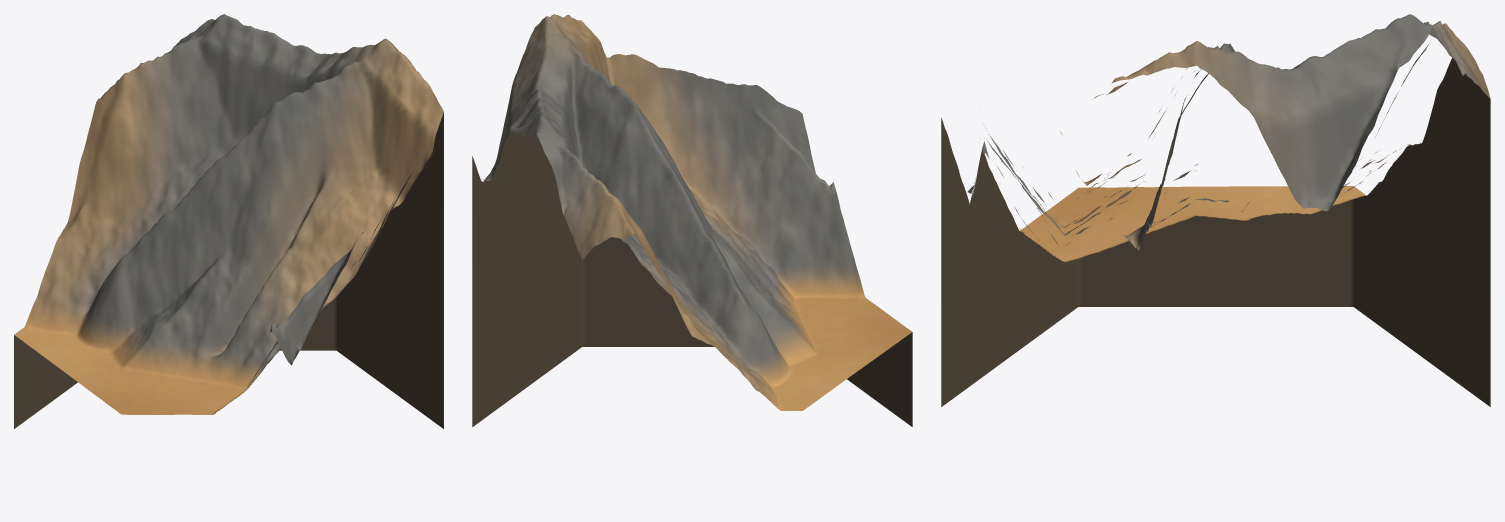
3 views of the same model, side by side, from view 1: azimuth 30°, elevation 25°; view 2: azimuth 150°, elevation 25°; view 3: azimuth 270°, elevation 25° (orthographic). The views are drawn at different scales.
Parts seen in each view (by area): view 1: terrain, hex_side_cut; view 2: terrain, hex_side_cut; view 3: hex_side_cut, terrain.
Part boxes in pixels (x1,y1,x2,y2): terrain: (14,14,443,414); hex_side_cut: (14,112,443,428); terrain: (483,14,911,410); hex_side_cut: (472,132,912,426); hex_side_cut: (941,57,1490,406); terrain: (967,14,1490,261).
Bounding box in the file's own units: 4330 × 4617 × 5000.
